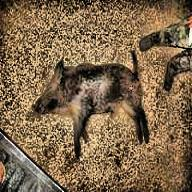boar: (26, 56, 167, 159)
